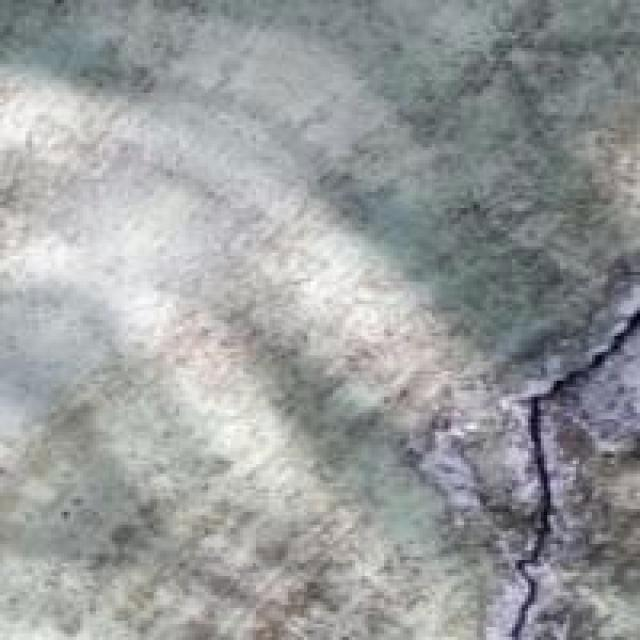crack: (472, 254, 640, 640)
